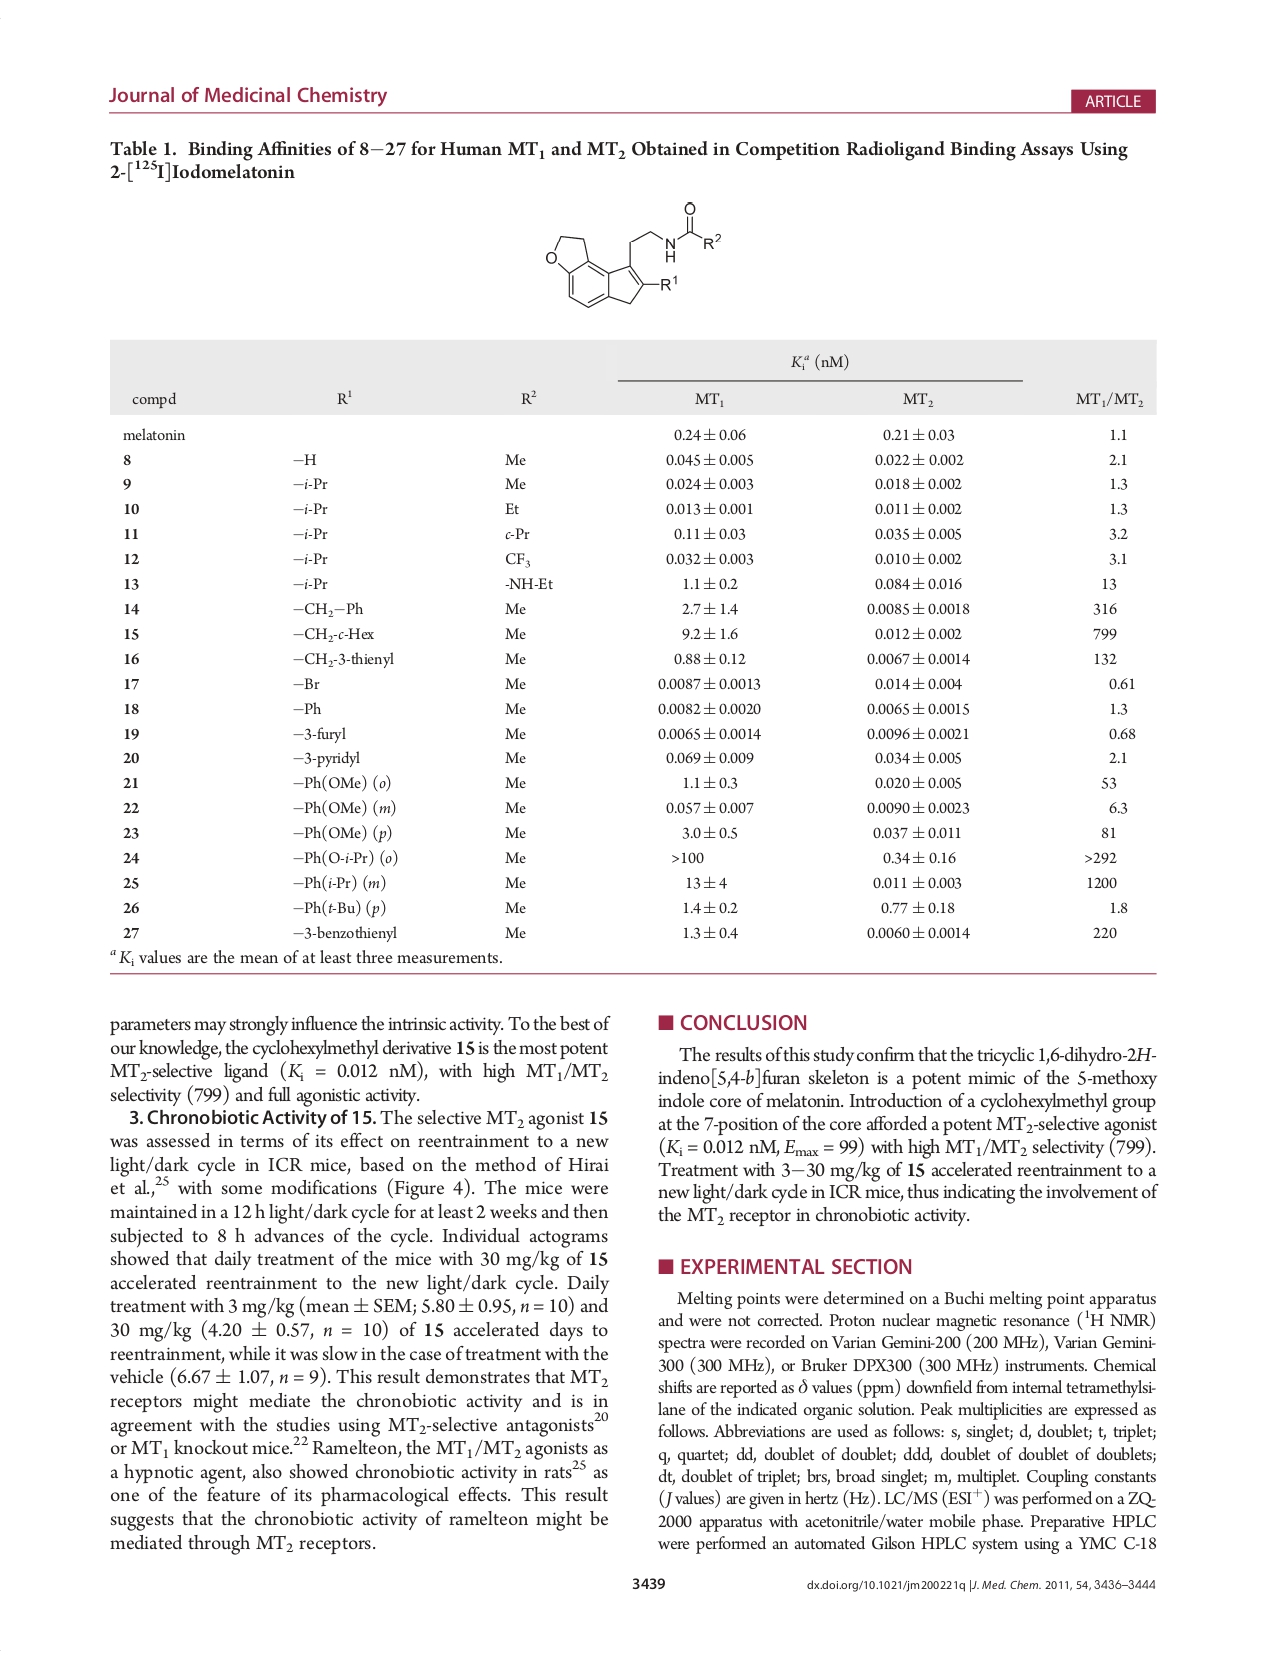exist_molecular: (543, 198, 735, 317)
